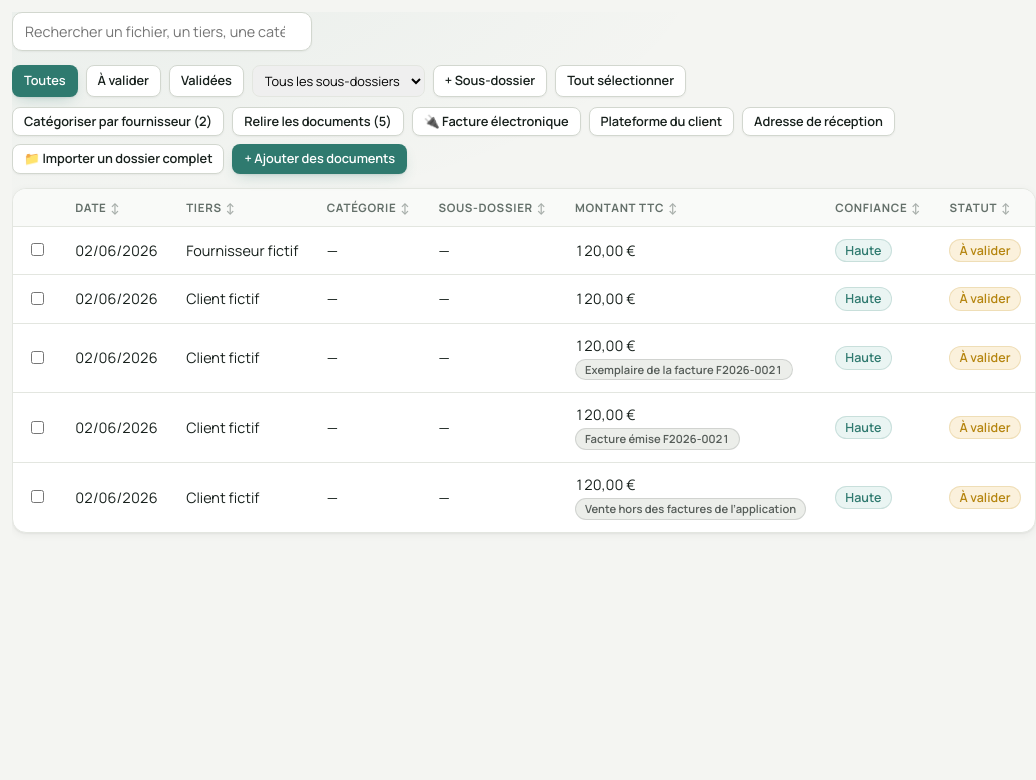
Test: dans un dossier qui n’a pas basculé : comme hier › toute la sélection part, en un envoi, sans note
The image size is (1036, 780).
Click the button "Tout sélectionner" at (621, 81), box [555,65,686,97]
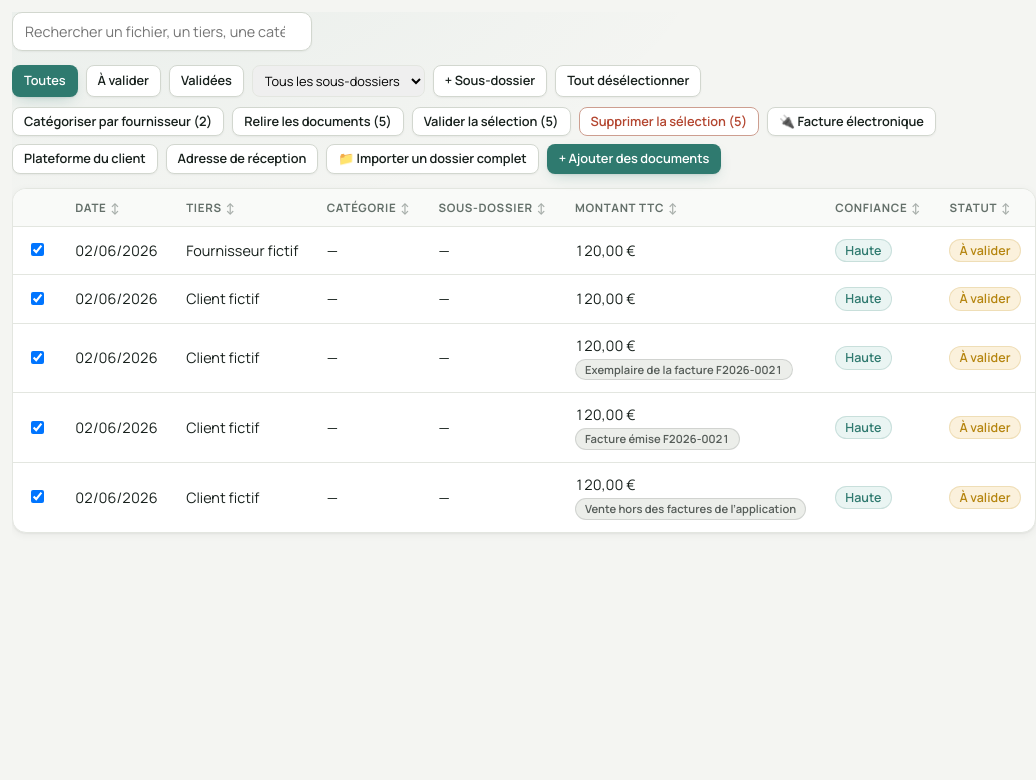
Click the button "Valider la sélection (5)" at (491, 122), box [412,107,570,136]
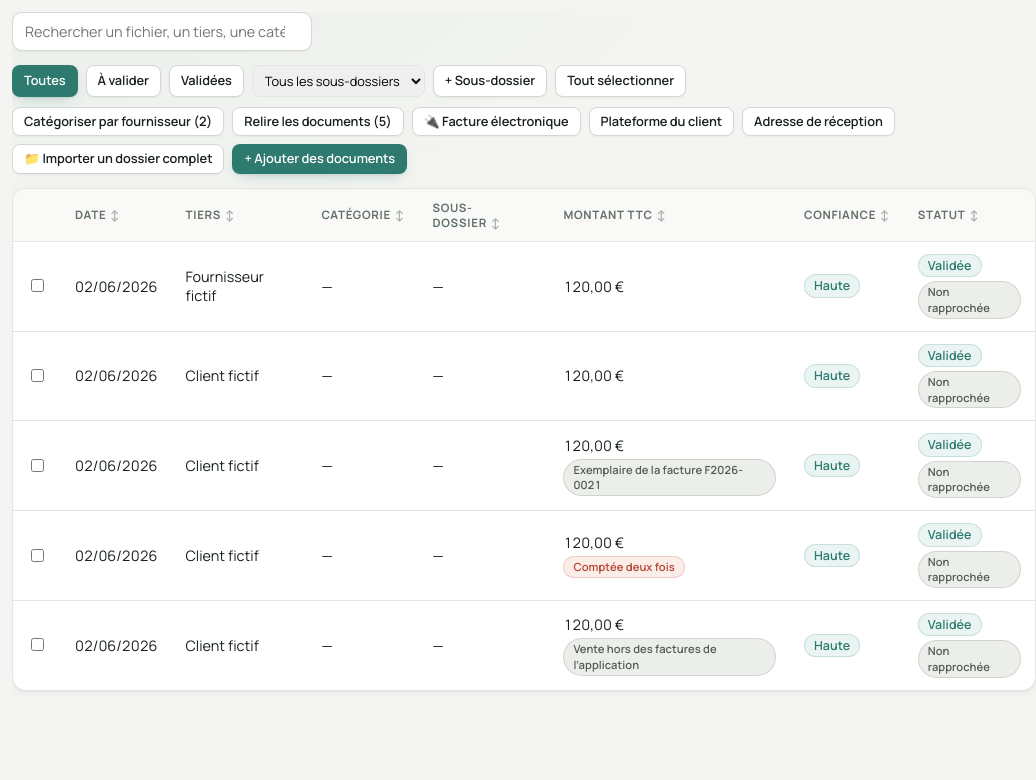
Expected: the button "Valider la sélection" is gone
